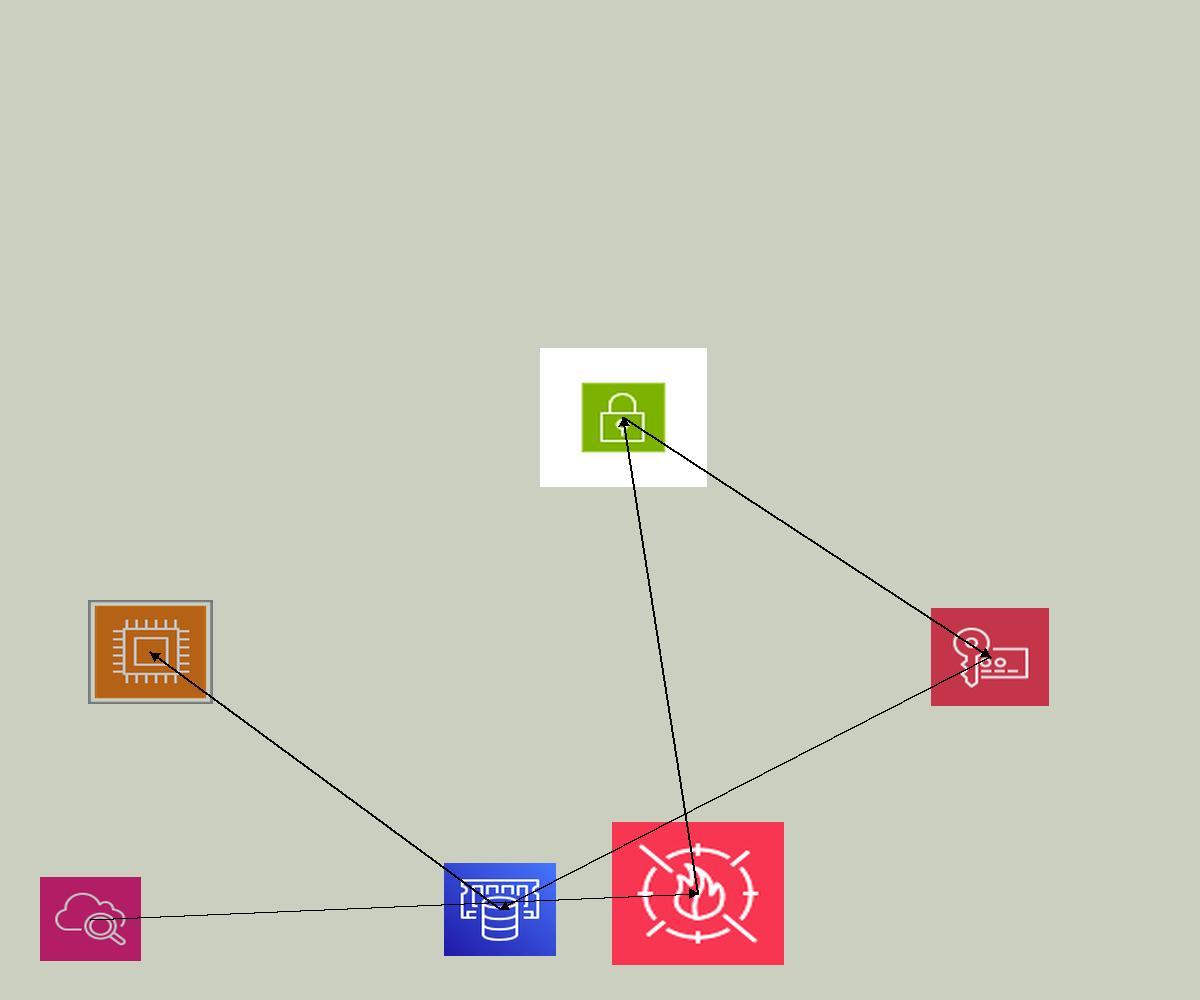AWS-Category_Compute: (88, 600, 213, 704)
AWS-CloudWatch: (40, 877, 141, 961)
AWS-ElastiCache: (444, 863, 556, 956)
AWS-Key-Management-Service: (931, 608, 1049, 706)
AWS-Public-subnet: (540, 348, 707, 487)
AWS-WAF: (612, 822, 784, 965)
